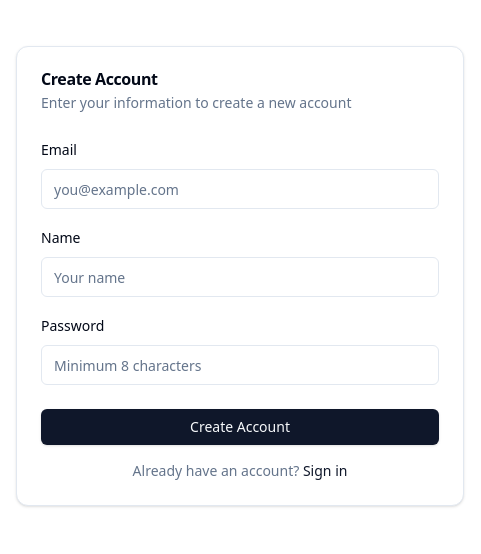
Test: RegisterPage - form interactions › error handling › should display API error message for generic errors
In the field with placeholder "you@example.com": (240, 189) [41, 169, 439, 209], type "test@example.com"
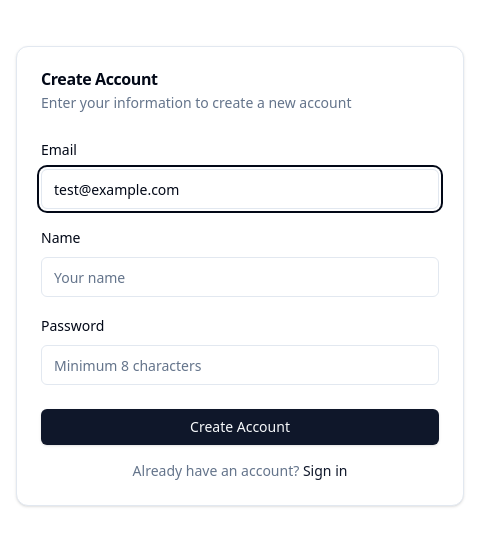
In the field with placeholder "Your name": (240, 277) [41, 257, 439, 297], type "Test User"
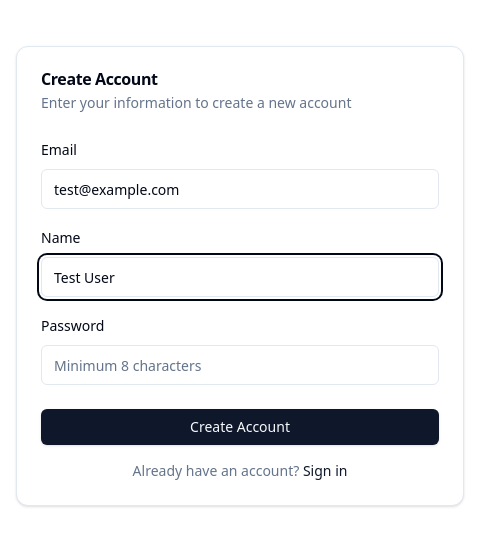
In the password field with placeholder "Minimum 8 characters": (240, 365) [41, 345, 439, 385], type "Password123!"
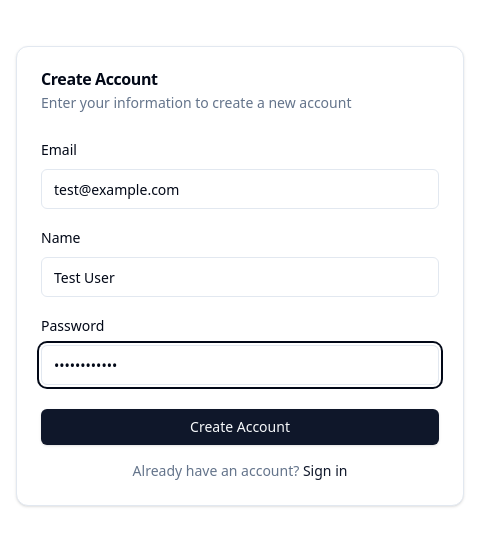
Click the submit button: (240, 427) [41, 409, 439, 445]
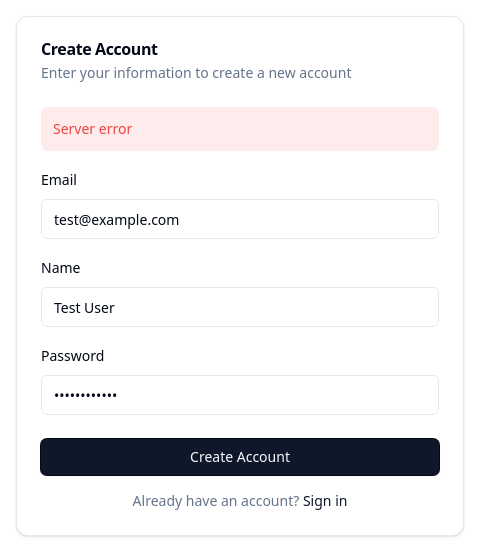
expect the text "Server error" is shown: met, box [41, 107, 439, 151]
